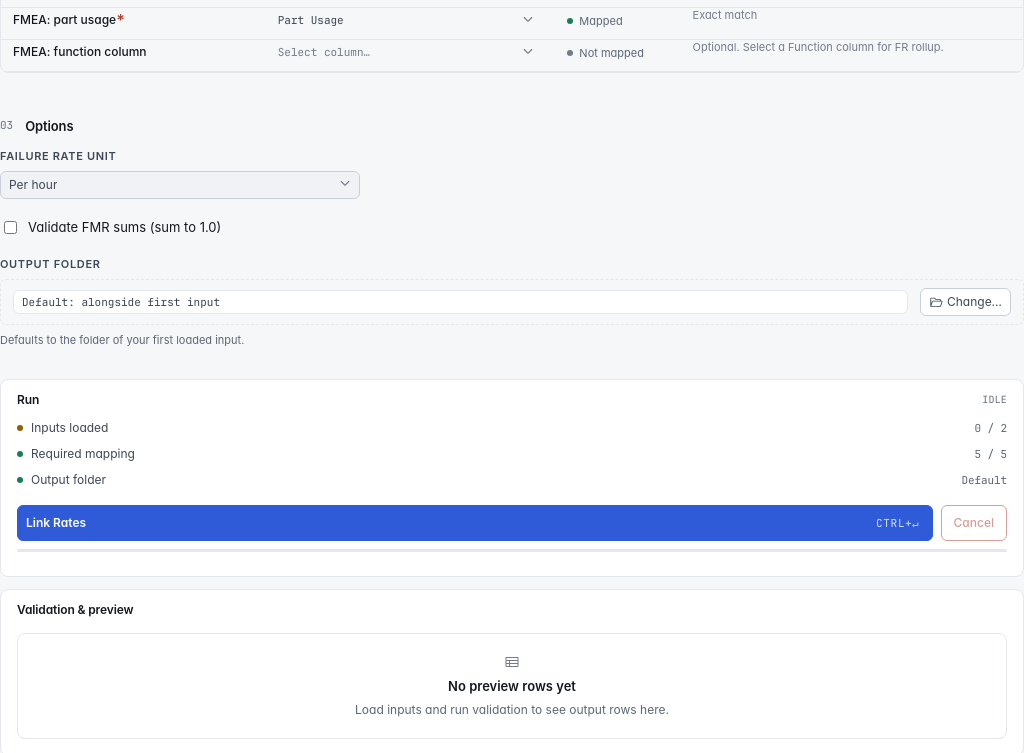
Test case: FailureRateTool stale validation handling › clears stale validation cards after browsing a new file
(page scrolled)
# A blocked start leaves real validation cards behind.
What coordinates should you click on to do the following:
click the button "Link Rates Ctrl+↵"
I would click on:
 (56, 523)
Its box is top-left (17, 505), bottom-right (933, 541).
(page scrolled)
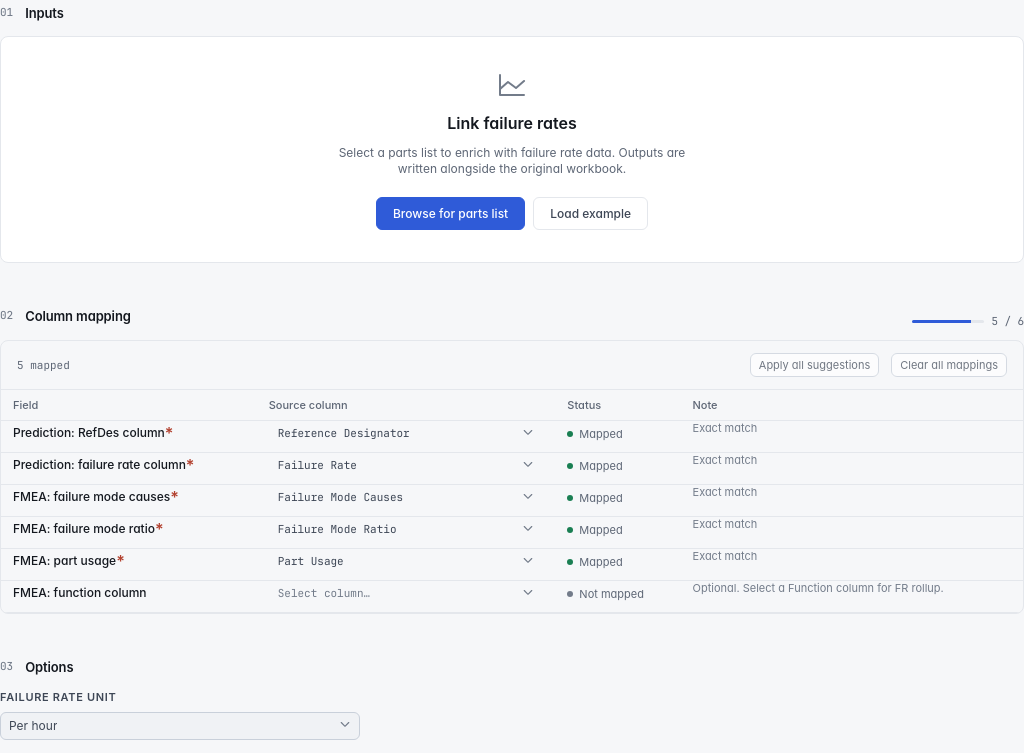
What coordinates should you click on to do the following:
click the button "Browse for parts list"
I would click on:
 (451, 213)
Its box is top-left (376, 197), bottom-right (525, 230).
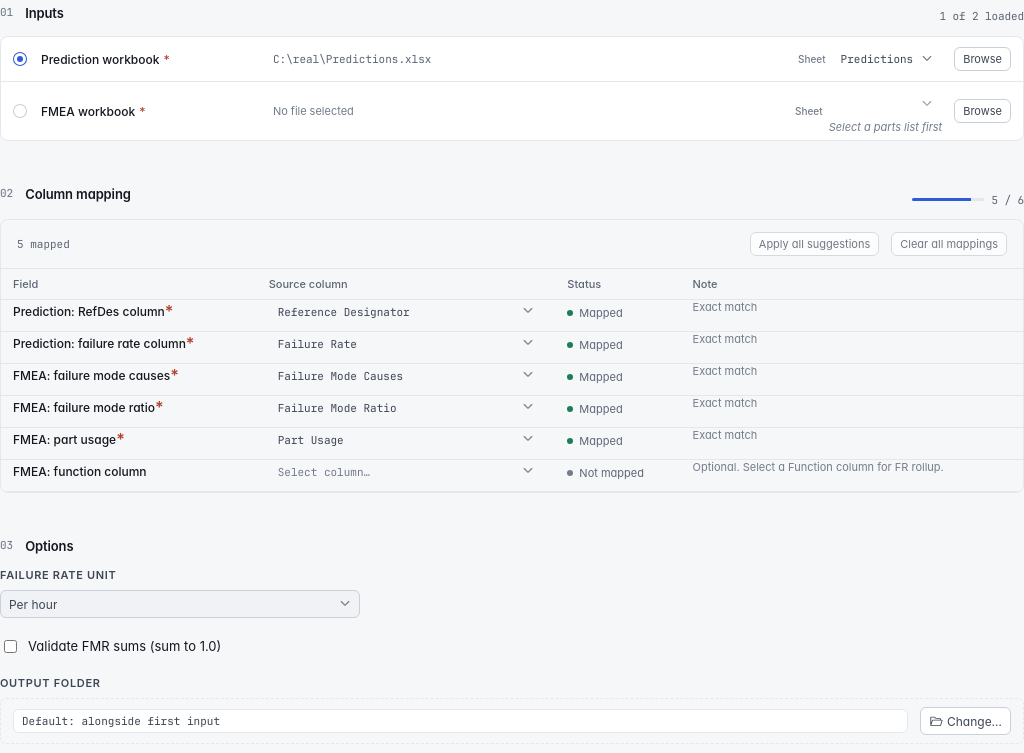
Expected: the text "C:\\real\\Predictions.xlsx" is shown, top-left (273, 52), bottom-right (431, 66)
